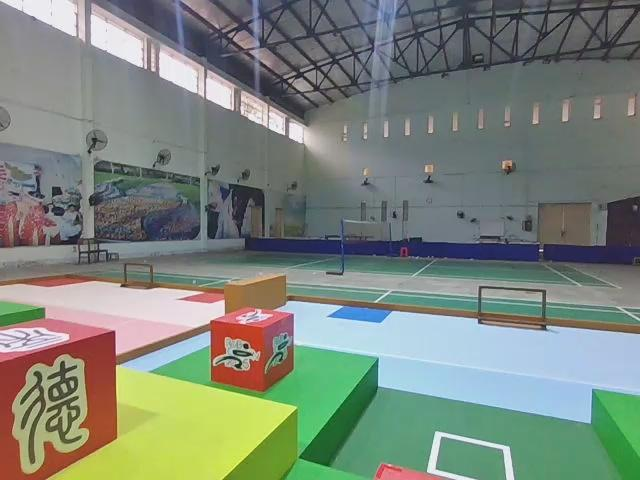R1: (209, 304, 297, 395)
R2 Fake: (0, 313, 120, 480)
